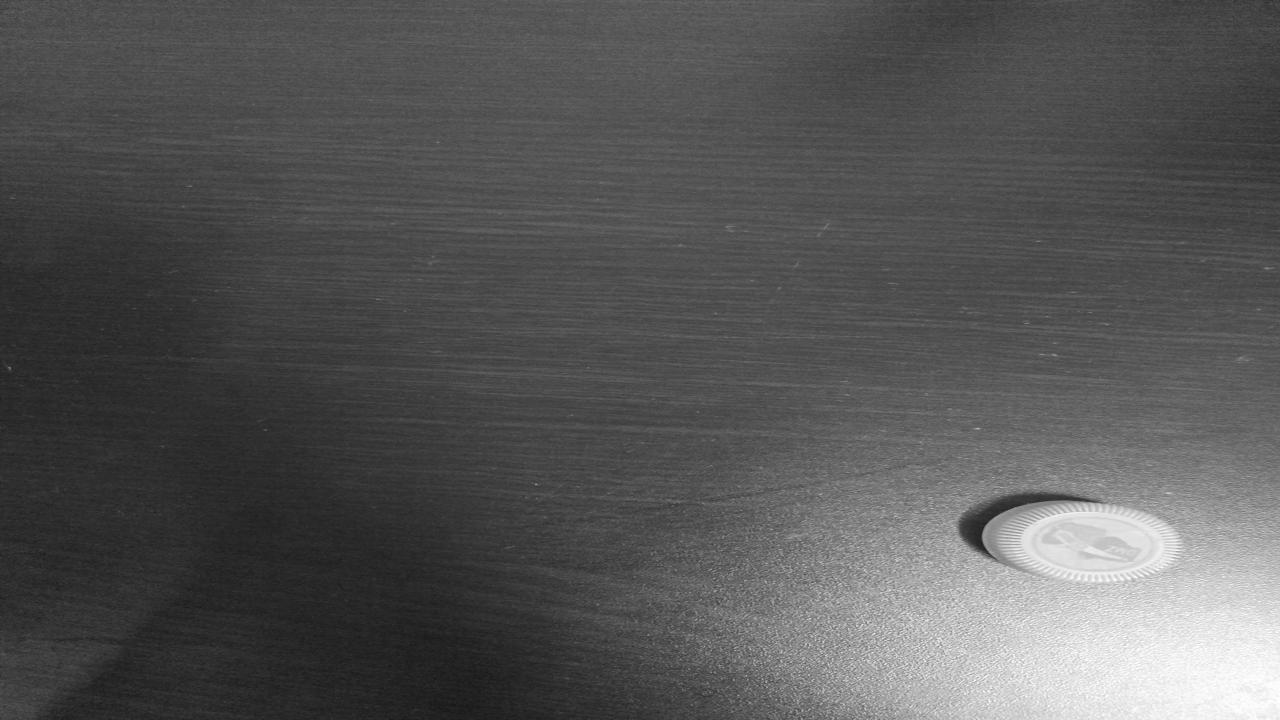bottle_cap: (992, 503, 1178, 582)
